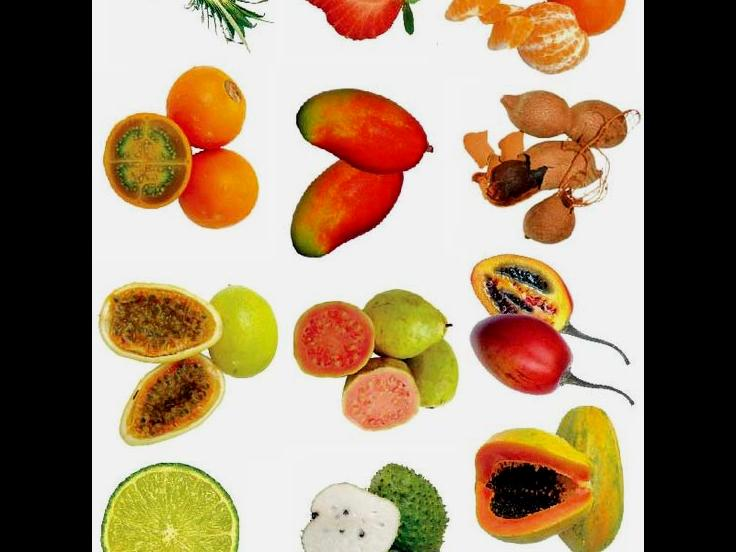xoai: (296, 87, 431, 171)
